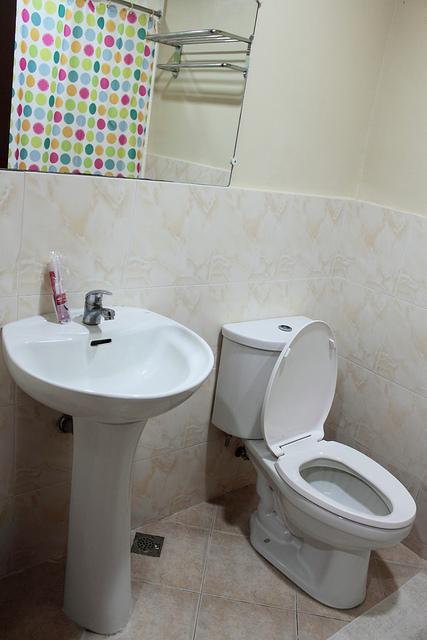Lavamanos: (6, 279, 204, 627)
Sanitario: (215, 309, 423, 606)
